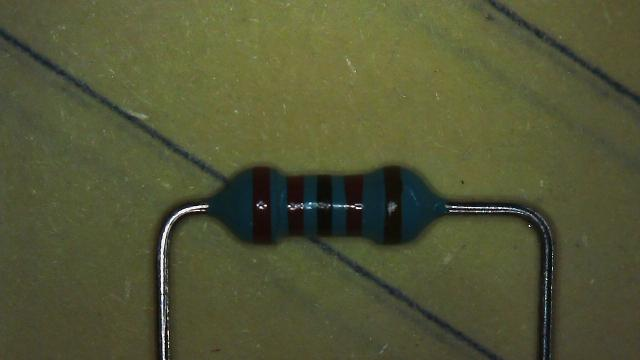black: (316, 174, 332, 236)
brown: (382, 166, 402, 244)
red: (252, 166, 272, 243), (344, 174, 362, 236), (288, 176, 304, 234)
resistor: (200, 141, 457, 263)
